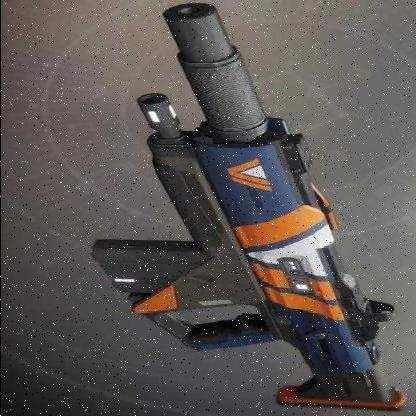rifle: (68, 0, 409, 414)
